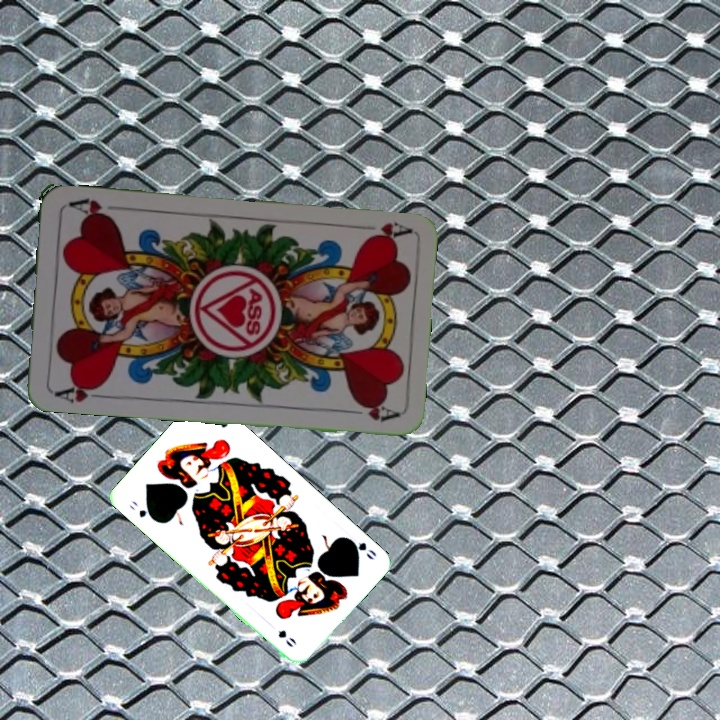GO: (343, 534, 379, 563), (125, 496, 158, 523)
HA: (50, 378, 109, 405), (353, 217, 412, 243)
